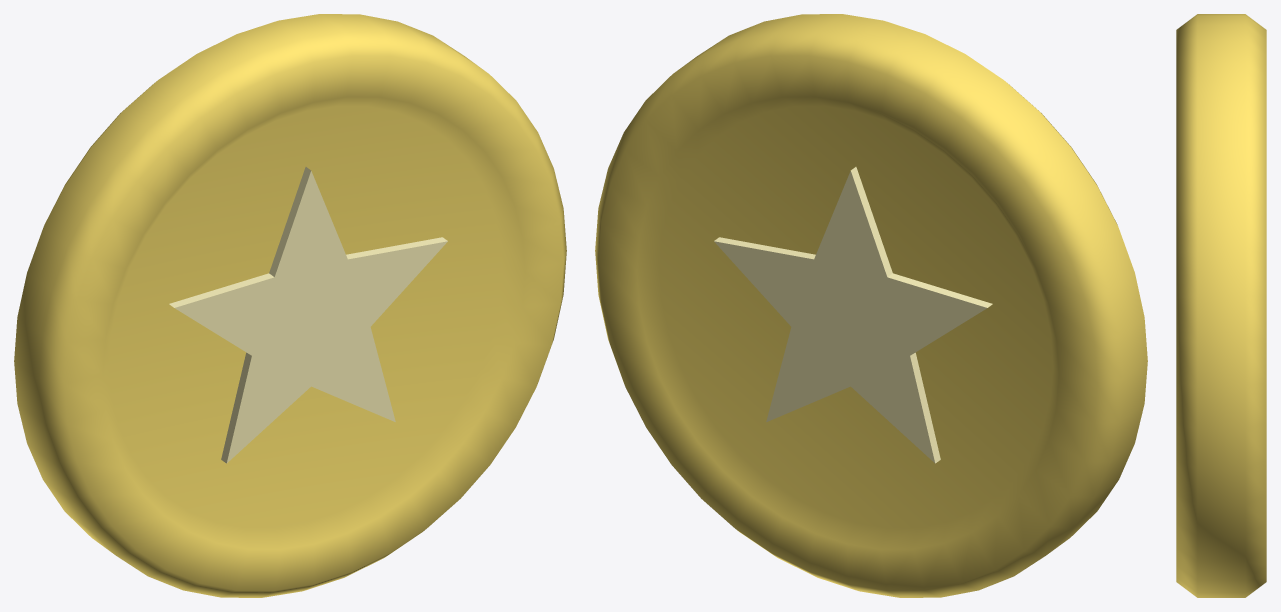
The model's file is ParasolPlummetCoin.glb.
The picture shows the model from 3 angles, left to right: view 1: azimuth 30°, elevation 25°; view 2: azimuth 150°, elevation 25°; view 3: azimuth 270°, elevation 25°; orthographic projection. The views are drawn at different scales.
Parts seen in each view (by area): view 1: Coin, Emblem; view 2: Coin, Emblem; view 3: Coin.
Boxes of the visible parts, left/top/right/bottom form: Coin: left=14, top=14, right=566, bottom=597; Emblem: left=169, top=167, right=447, bottom=463; Coin: left=595, top=14, right=1147, bottom=597; Emblem: left=714, top=167, right=992, bottom=463; Coin: left=1176, top=14, right=1266, bottom=597.
Bounding box in the file's own units: 2.2 × 2.2 × 0.34.
